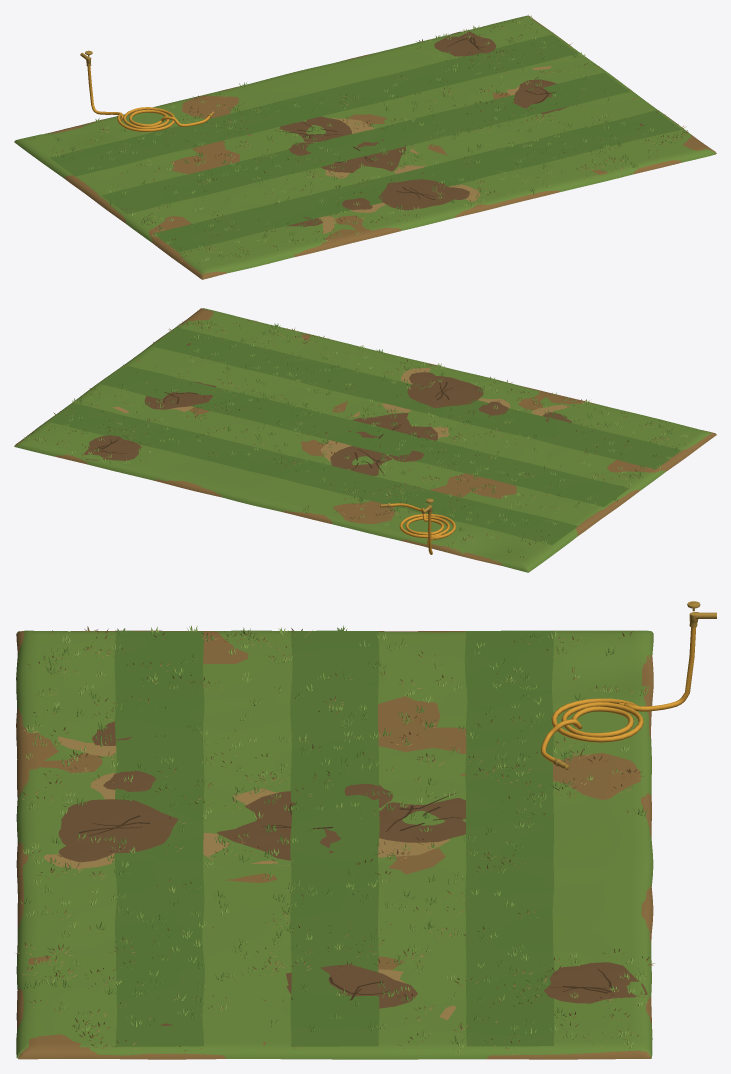
Rendered from lawn.glb.
3 views of the same model, one above another, from view 1: azimuth 30°, elevation 25°; view 2: azimuth 150°, elevation 25°; view 3: azimuth 270°, elevation 25° (orthographic). The views are drawn at different scales.
Visible parts, largest first — view 1: Green, Brown, Hose; view 2: Green, Brown, Hose; view 3: Green, Brown, Hose.
Part boxes in pixels (left/top/right/bottom): Green: left=14, top=14, right=715, bottom=274; Brown: left=29, top=16, right=716, bottom=279; Hose: left=80, top=50, right=214, bottom=131; Green: left=15, top=308, right=711, bottom=572; Brown: left=14, top=308, right=716, bottom=565; Hose: left=380, top=498, right=455, bottom=554; Green: left=16, top=625, right=653, bottom=1059; Brown: left=16, top=626, right=654, bottom=1059; Hose: left=541, top=601, right=716, bottom=769.
Bounding box in the file's own units: 5.47 × 0.6082 × 3.79.
